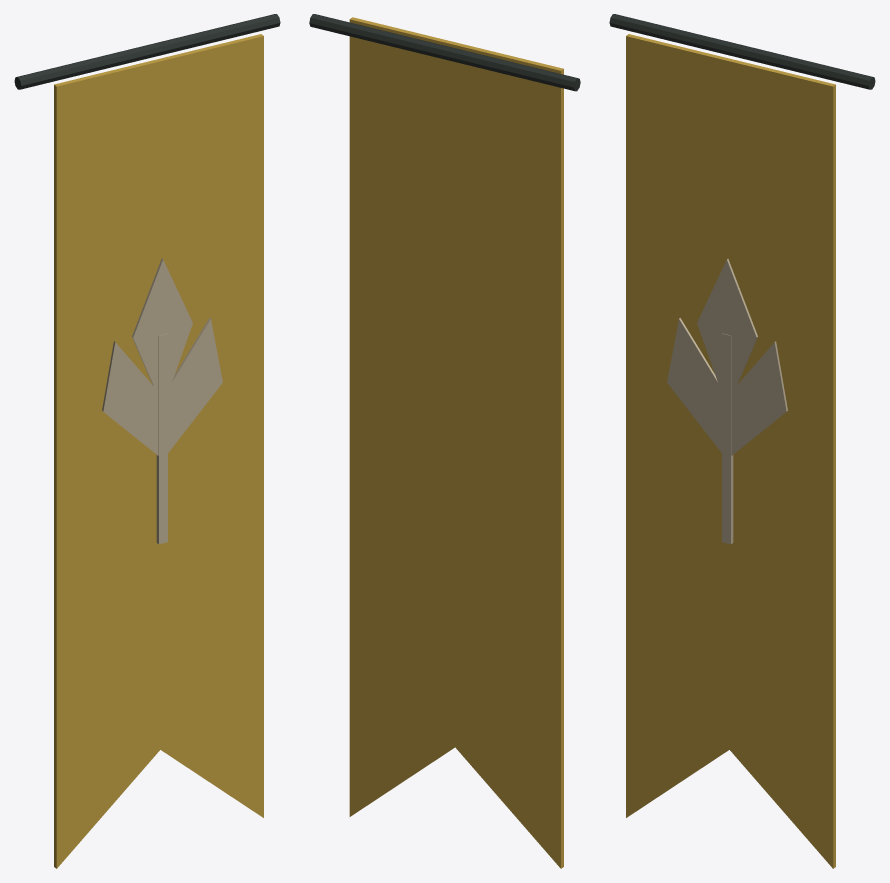
Rendered from lib_banner.glb.
3 renders of one model, left to right at view 1: azimuth 30°, elevation 25°; view 2: azimuth 150°, elevation 25°; view 3: azimuth 330°, elevation 25°, orthographic. The views are drawn at different scales.
Parts seen in each view (by area): view 1: banner; view 2: banner; view 3: banner.
Boxes of the visible parts, x1,y1,x2,y2 form: banner: [14, 14, 280, 868]; banner: [309, 14, 580, 868]; banner: [609, 14, 875, 868].
Size of the model in its own units: 1.3 by 3.78 by 0.168.
